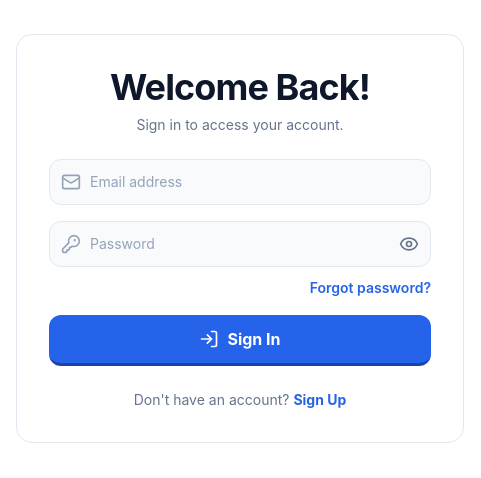
Scenario: LoginPage › recovers when the auth client throws instead of returning an error
Type "someone@mathly.local" into the field with id "email" at (240, 182), box [49,159,431,205]
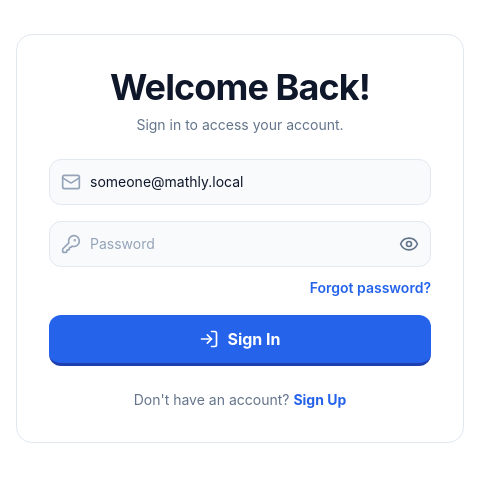
Type "hunter2222" into the password field with placeholder "Password" at (240, 244), box [49,221,431,267]
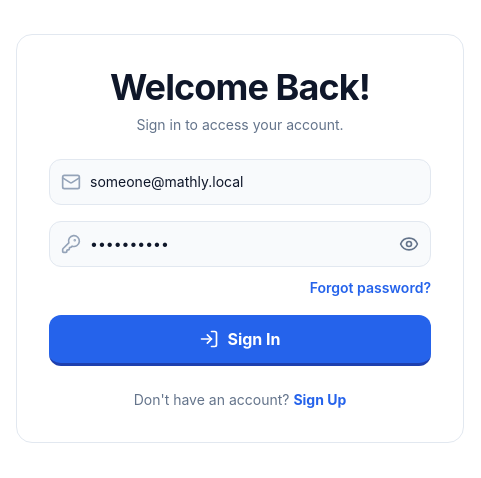
Submit the form, box [49,159,431,366]
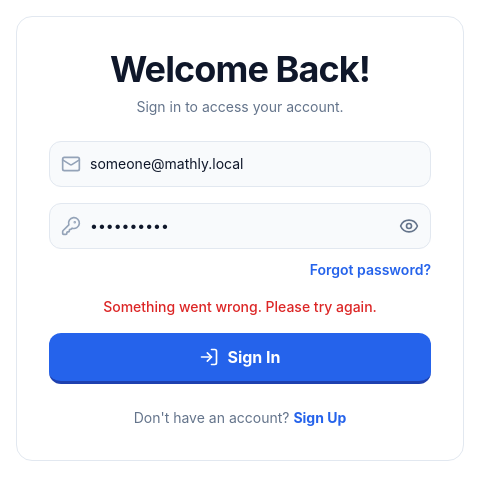
Expected: the submit button is enabled, [49,333,431,384]
Expected: the text "Something went wrong. Please try again." is shown, [103,298,377,315]
